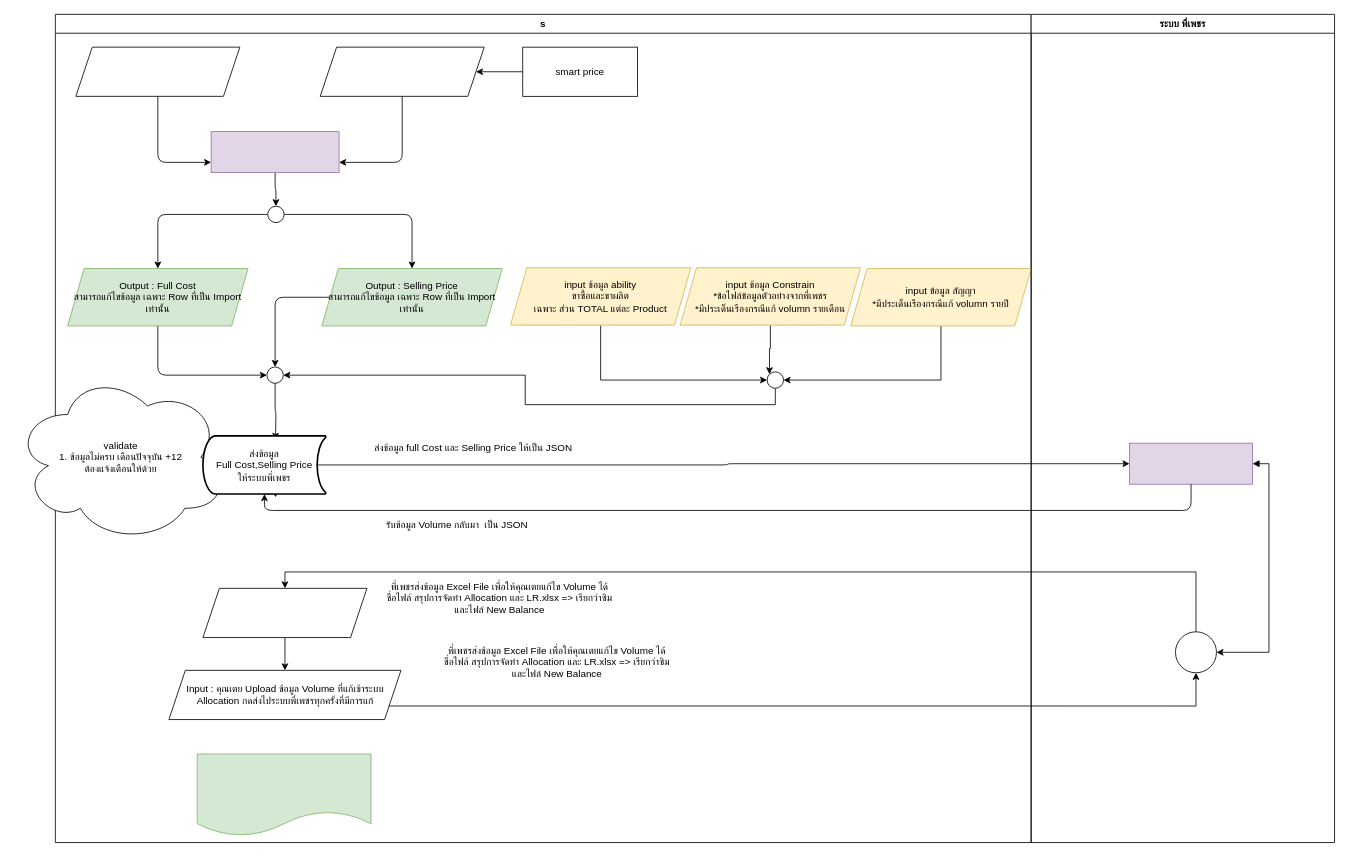
This 1349x857 diagram has some shape labels left out. The shapes that lost their labels are listed below. From the top down, each one's centre as x and y in pixels, then its label:
(x=157, y=71): Input : Cost ผวก Import Excel / Edit /copy paste
(x=401, y=71): Input : Reference จจ Import Excel / Edit /copy paste
(x=274, y=152): ระบบคำนวณ
(x=1191, y=463): ระบบพี่เพชรคำนวณ volume
(x=284, y=613): Input : คุณเตยอาจจะมีแก้ไขข้อมูล Volume
(x=283, y=794): export excel file รูปแบบตัวอย่างชื่อไฟล์ "Cost and selling price_Confidential"
